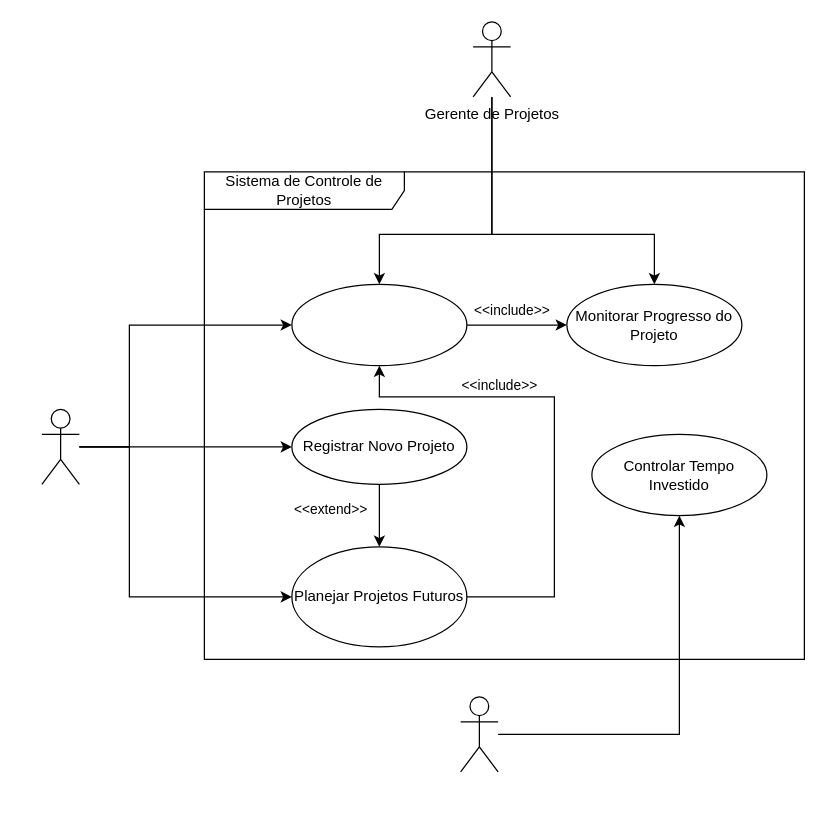
The diagram is 826 pixels wide and 820 high, and some of its shapes have lost their labels. The centre of each missing label's shape, as x and y in pixels:
"Equipe de Desenvolvimento" belongs at [478,734].
"Gerar Relatórios de Desempenho" belongs at [379,324].
"Proprietário" belongs at [60,446].
